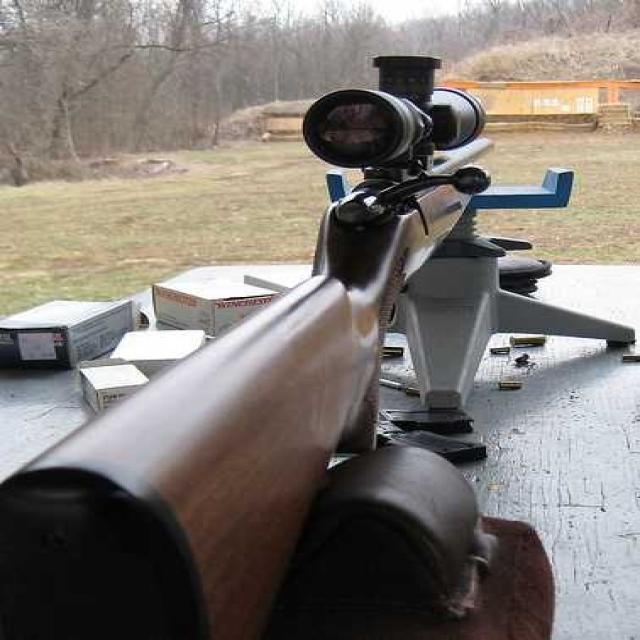heavyweapon: (1, 44, 532, 640)
